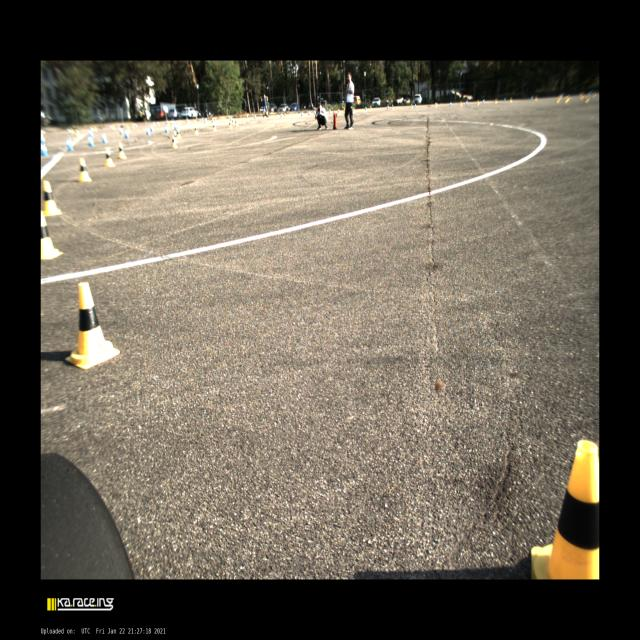blue_cone: (41, 137, 48, 156), (67, 137, 74, 151), (88, 134, 95, 146), (102, 132, 108, 143), (125, 130, 130, 138), (147, 127, 151, 135), (166, 125, 170, 133), (151, 125, 154, 132), (254, 114, 257, 120), (280, 112, 282, 118), (301, 112, 304, 116), (308, 110, 310, 116), (314, 110, 316, 114), (329, 109, 331, 113), (365, 106, 367, 110), (387, 105, 389, 109), (450, 102, 452, 106), (466, 101, 468, 105), (230, 117, 231, 121), (415, 104, 416, 108), (483, 100, 484, 104), (212, 118, 213, 122)
yellow_cone: (531, 439, 599, 578), (66, 282, 120, 369), (41, 210, 62, 260), (43, 181, 61, 216), (77, 158, 92, 182), (104, 147, 115, 167), (118, 142, 127, 159), (172, 134, 178, 148), (174, 131, 178, 142), (177, 129, 181, 138), (195, 127, 199, 135), (212, 124, 216, 132), (228, 122, 232, 129), (235, 120, 239, 126), (232, 118, 235, 125), (337, 109, 340, 115), (369, 106, 372, 111), (494, 99, 497, 104), (187, 120, 189, 126), (204, 120, 206, 126), (284, 113, 286, 118), (343, 109, 345, 114), (214, 118, 216, 123), (246, 116, 248, 120), (411, 104, 413, 108), (477, 101, 479, 105), (460, 102, 462, 106), (392, 104, 393, 110), (435, 103, 436, 108)
